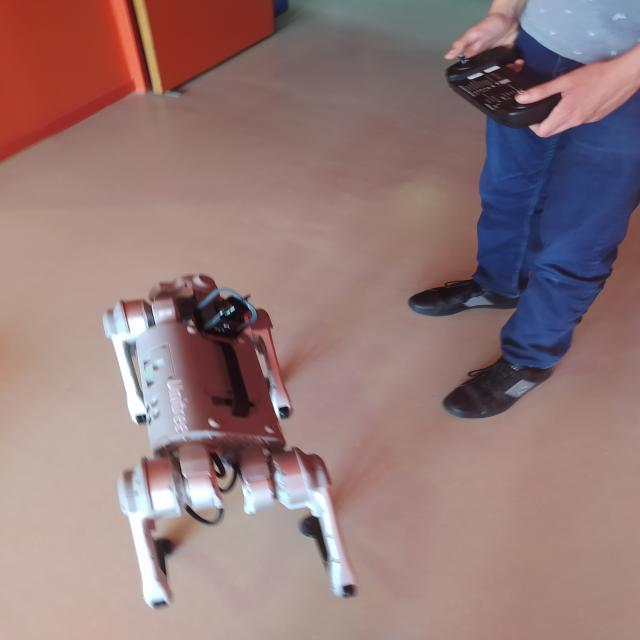unitree-go1-robot: (95, 267, 377, 637)
